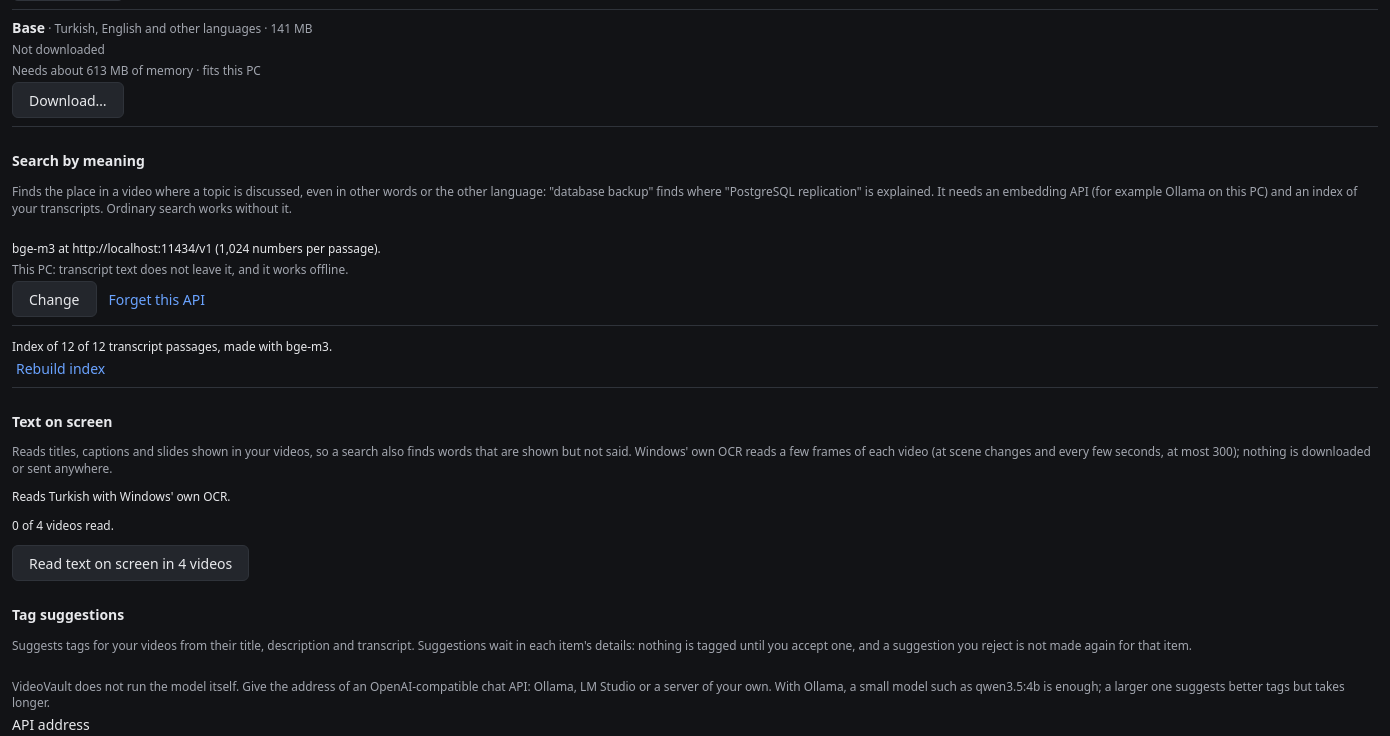
Test case: Search by meaning › cancels a rebuild and keeps the current index (AC-24)
The image size is (1390, 736).
(page scrolled)
Click the button with test id "search-index-rebuild" at (61, 369), box 12,359 -> 109,379
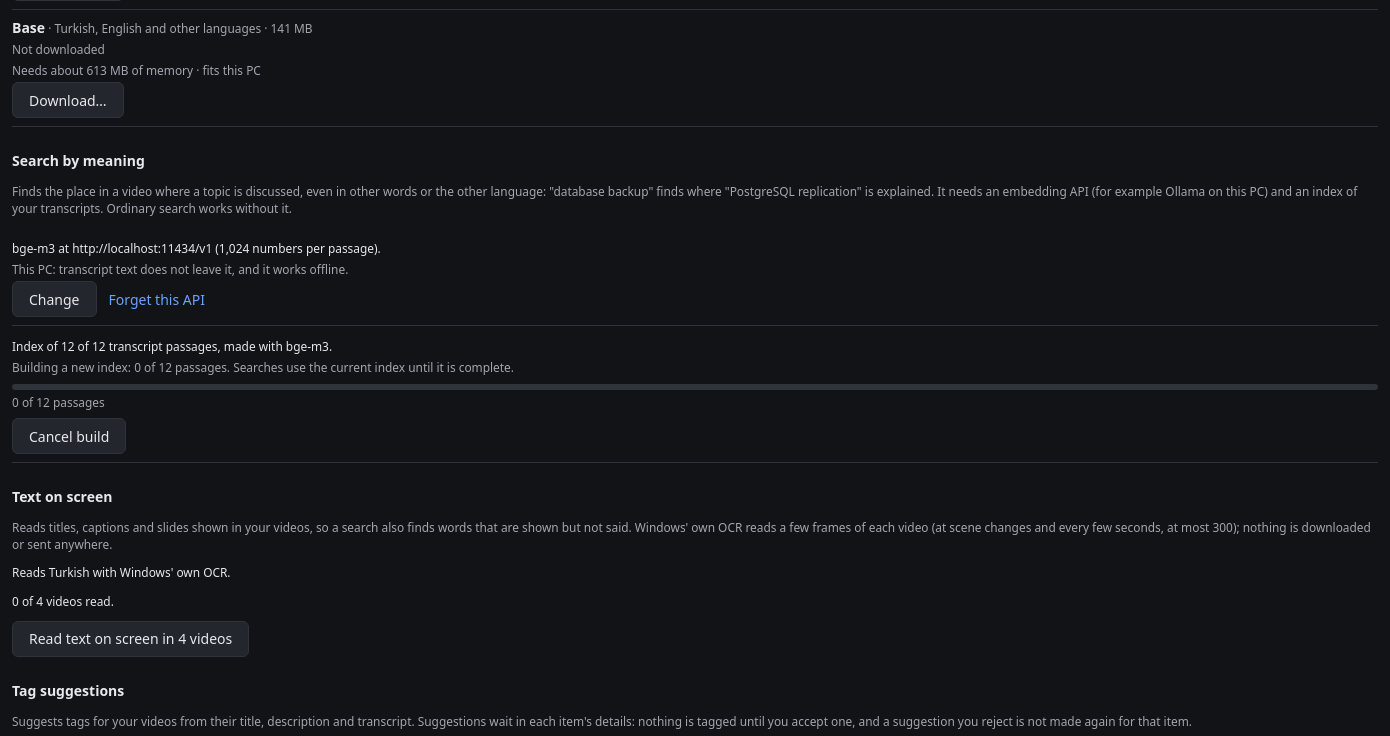
Expected: the text with test id "search-index-progress" shows "Searches use the current index until it is complete.", 12,359 -> 514,375
Click the button with test id "search-index-cancel" at (69, 436), box 12,418 -> 126,454
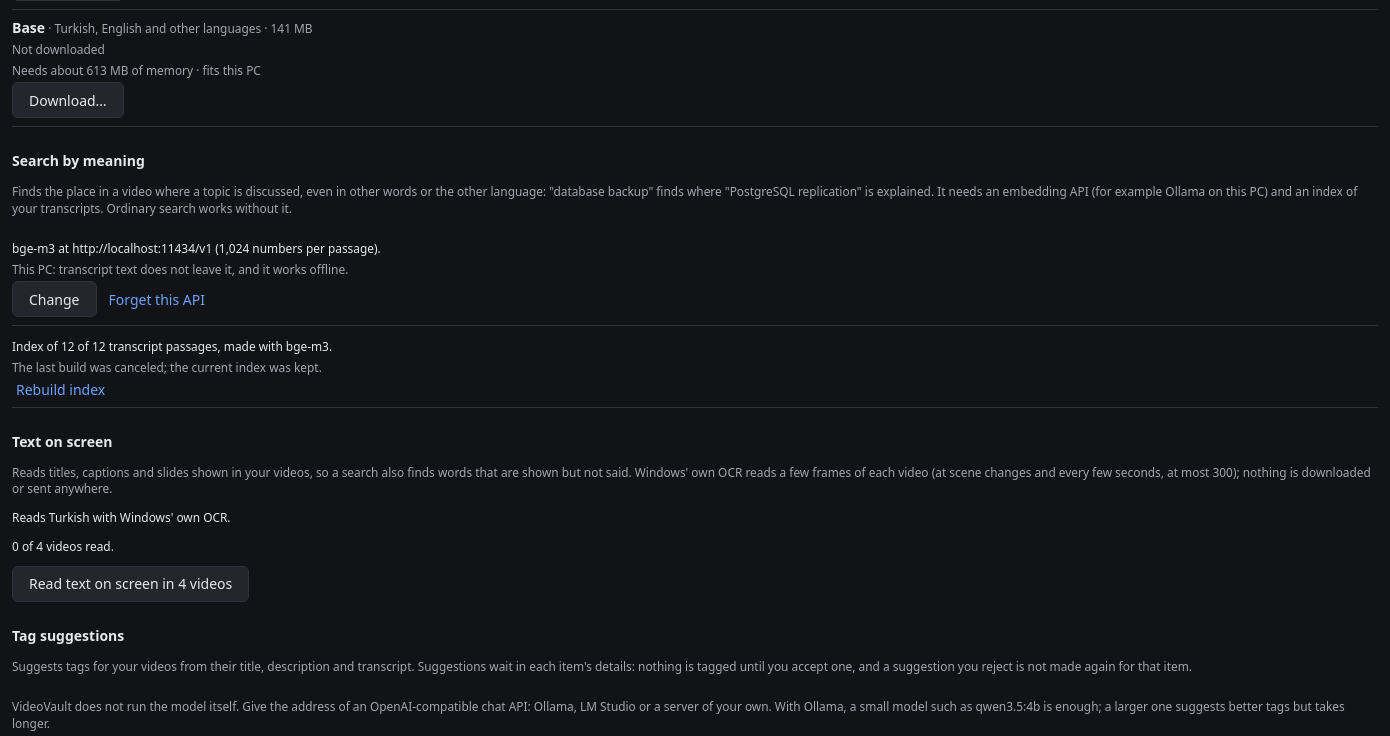
Expected: the element with test id "search-index" shows "The last build was canceled; the current index was kept.", 12,359 -> 322,375
